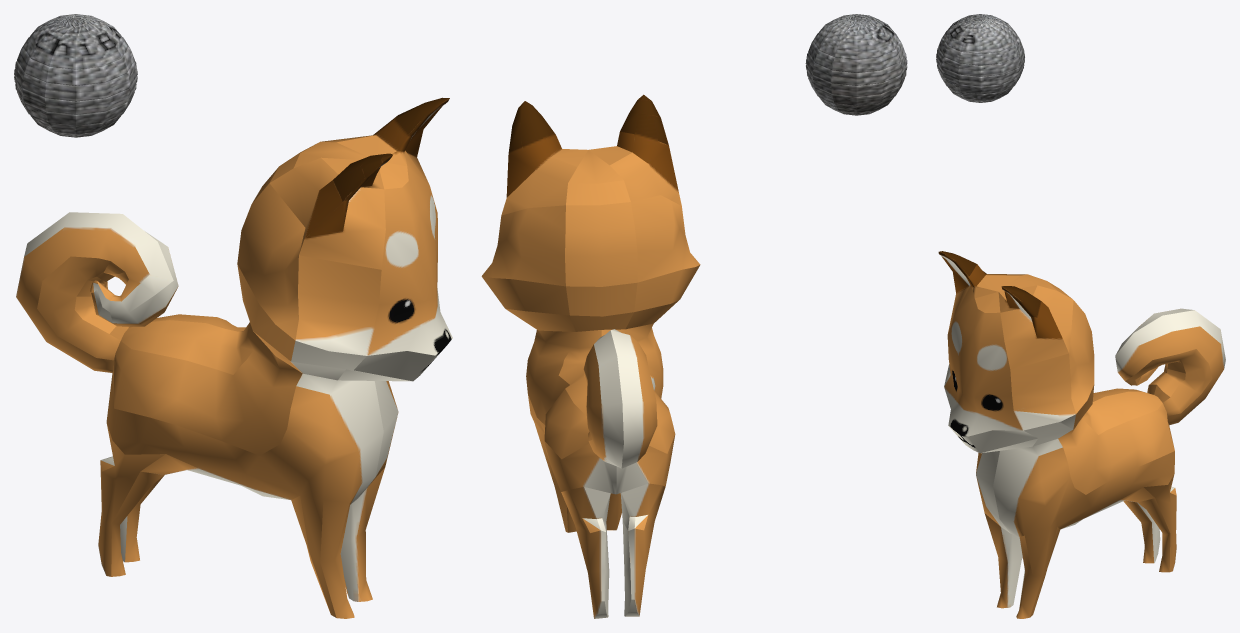
The model's file is ball_frame1.obj.
3 renders of one model, left to right at view 1: azimuth 30°, elevation 25°; view 2: azimuth 150°, elevation 25°; view 3: azimuth 270°, elevation 25°, orthographic. The views are drawn at different scales.
Parts seen in each view (by area): view 1: walk1:newRigging:BodzL1, pSphere1; view 2: walk1:newRigging:BodzL1, pSphere1; view 3: walk1:newRigging:BodzL1, pSphere1.
Boxes of the visible parts, left/top/right/bottom form: walk1:newRigging:BodzL1: left=16, top=97, right=452, bottom=618; pSphere1: left=14, top=14, right=137, bottom=137; walk1:newRigging:BodzL1: left=481, top=94, right=700, bottom=618; pSphere1: left=805, top=14, right=907, bottom=115; walk1:newRigging:BodzL1: left=938, top=251, right=1225, bottom=618; pSphere1: left=936, top=14, right=1024, bottom=102.
Size of the model in its own units: 7.55 by 10.91 by 5.87.
Materials: 2 (2 with a texture image).
